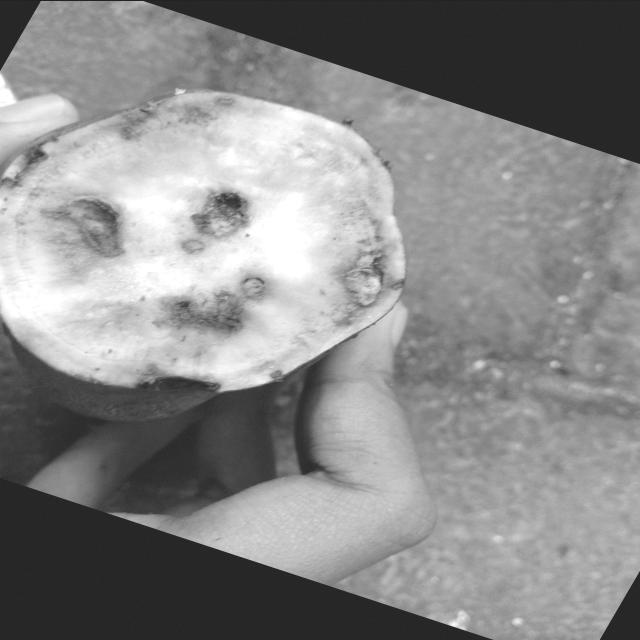Sick Sweet Potato_Tuber Rot: (2, 89, 405, 390)
